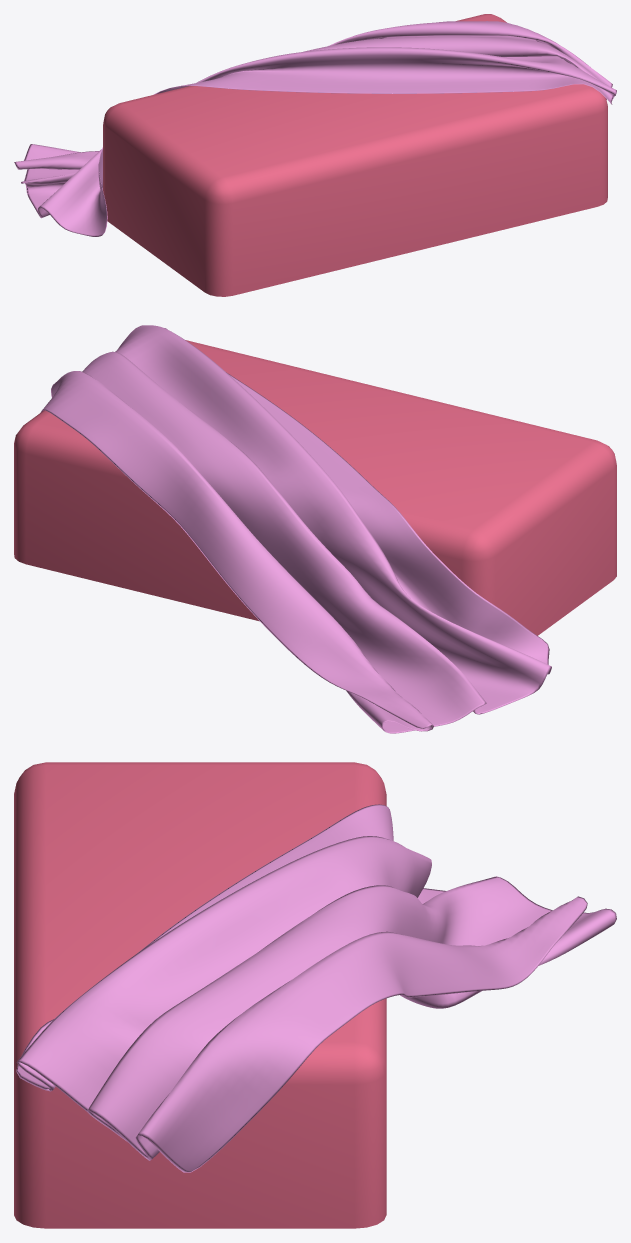
The model's file is Berg1.fbx.
3 renders of one model, top to bottom at view 1: azimuth 30°, elevation 25°; view 2: azimuth 150°, elevation 25°; view 3: azimuth 270°, elevation 25°, orthographic. The views are drawn at different scales.
Visible parts, largest first — view 1: SM_Berg_001; view 2: SM_Berg_001; view 3: SM_Berg_001.
Part boxes in pixels (x1=…): SM_Berg_001: x1=14, y1=14, x2=616, y2=296; SM_Berg_001: x1=14, y1=325, x2=616, y2=733; SM_Berg_001: x1=14, y1=762, x2=616, y2=1228.
Bounding box in the file's own units: 3568 × 965 × 2420.
